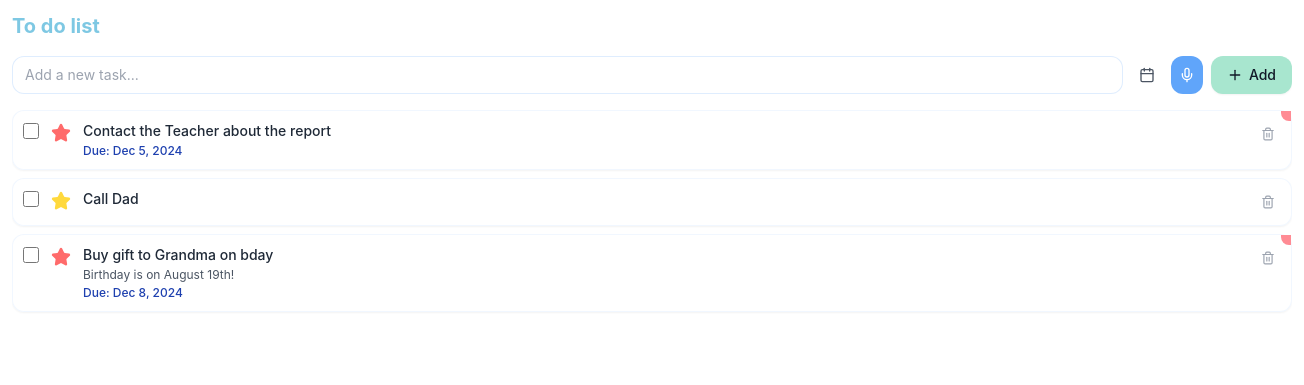
Test: TodoList Component › should add a new task when pressing Enter
In the field with placeholder "Add a new task...": (567, 75) [12, 56, 1123, 94], type "Task via Enter"
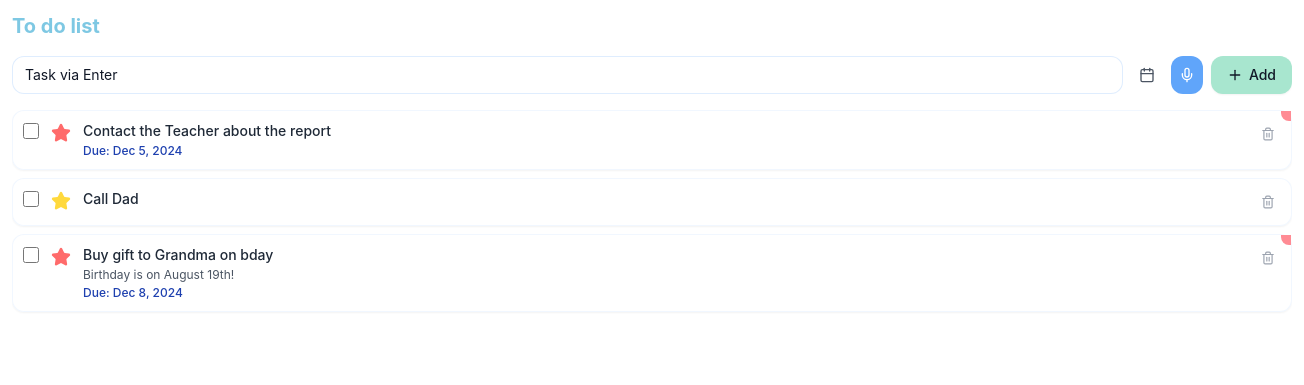
Press Enter in the field with placeholder "Add a new task...", box [12, 56, 1123, 94]
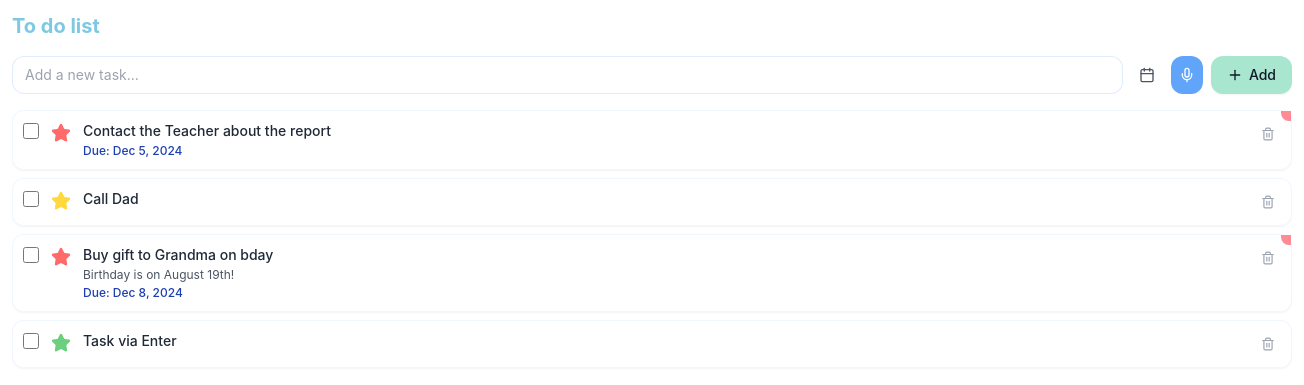
Check: the heading "Task via Enter" is shown, box [83, 332, 177, 349]
